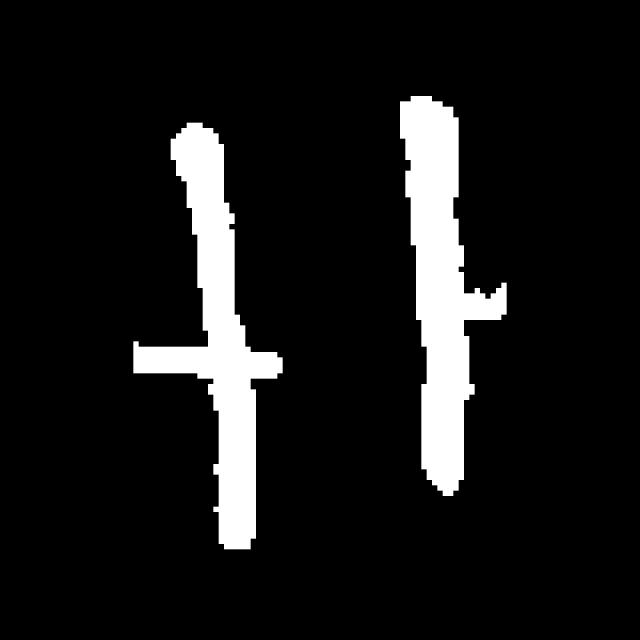capacitor: (163, 95, 484, 570)
